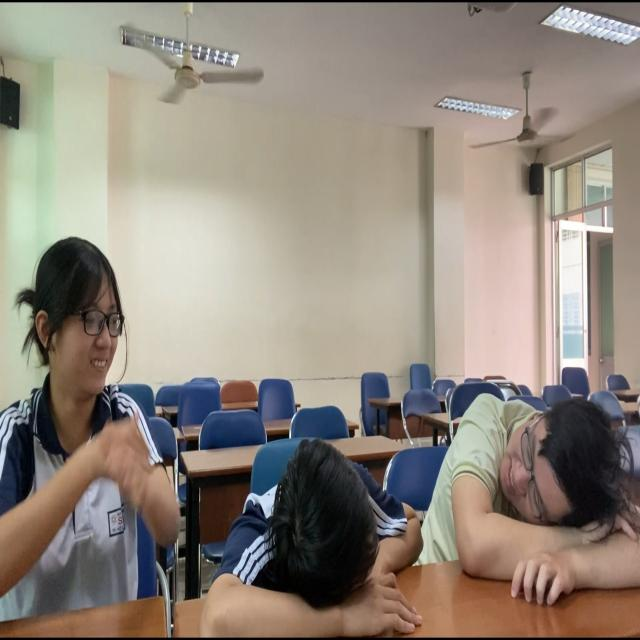sleep: (431, 360, 640, 609), (206, 430, 414, 640)
